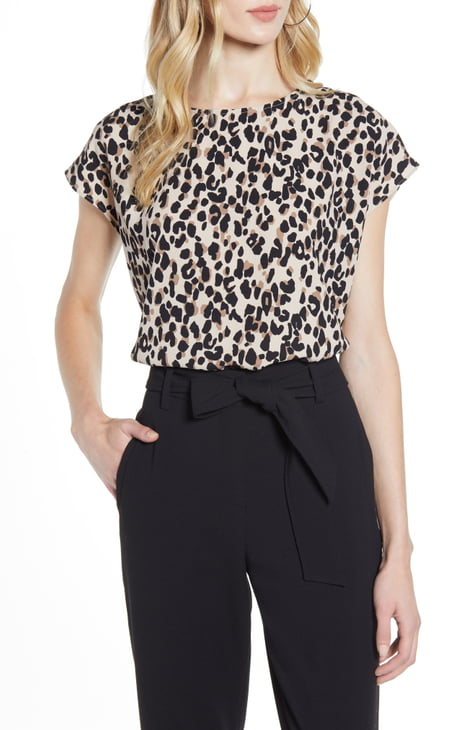C_W_pants: (123, 368, 388, 730)
C_short blouse: (63, 88, 411, 376)
